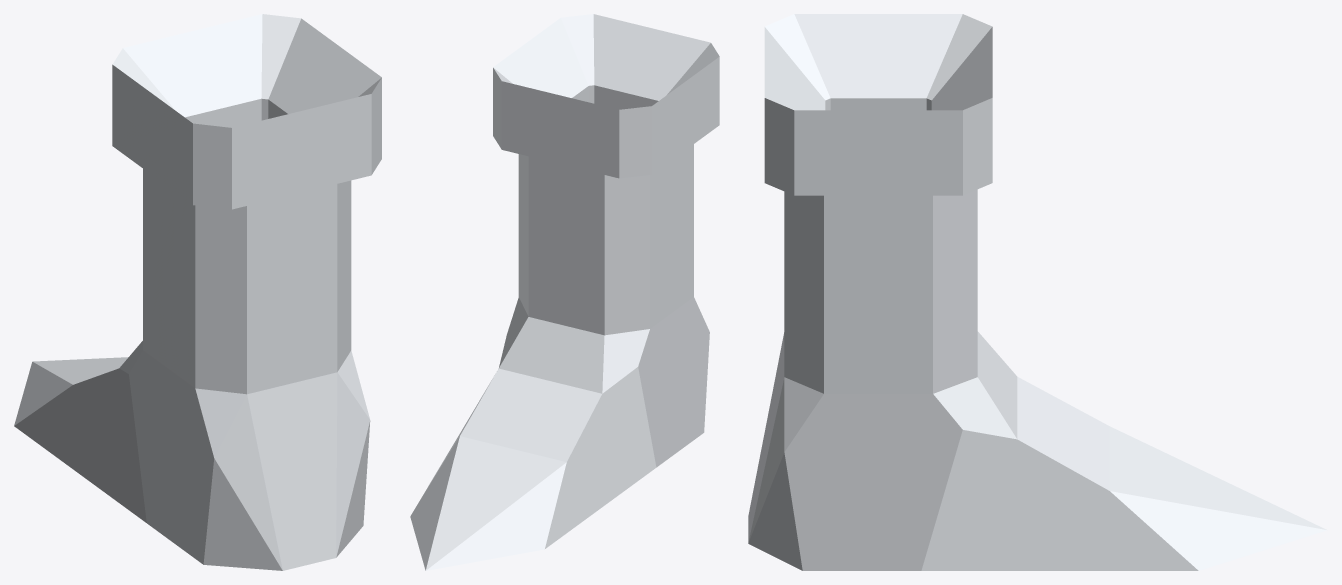
The model's file is fgr_fur_boot.fbx.
3 views of the same model, side by side, from view 1: azimuth 30°, elevation 25°; view 2: azimuth 150°, elevation 25°; view 3: azimuth 270°, elevation 25° (orthographic). The views are drawn at different scales.
Parts seen in each view (by area): view 1: fgr_fur_boot; view 2: fgr_fur_boot; view 3: fgr_fur_boot.
Boxes of the visible parts, left/top/right/bottom form: fgr_fur_boot: left=14, top=14, right=381, bottom=570; fgr_fur_boot: left=410, top=14, right=719, bottom=570; fgr_fur_boot: left=748, top=14, right=1327, bottom=570.
Bounding box in the file's own units: 288 × 651 × 731.
Materials: 1 (1 with a texture image).
